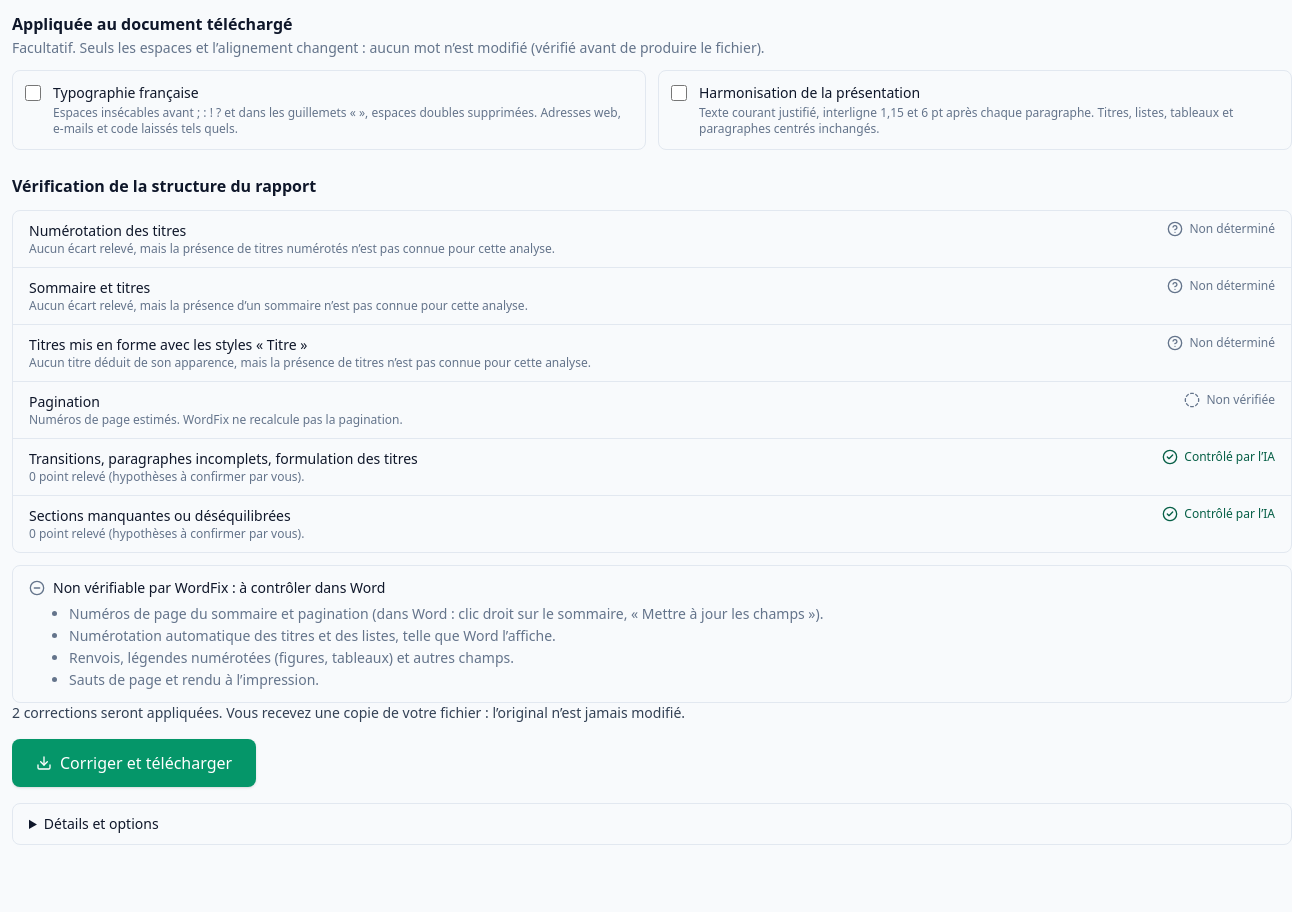
Action principale « Corriger et télécharger » › échec EXPORT_TOO_LARGE : message clair, nouvel essai seulement s’il peut aboutir
What coordinates should you click on to do the following:
click the button "Corriger et télécharger"
I would click on:
 (134, 763)
Its box is [12,739,256,787].
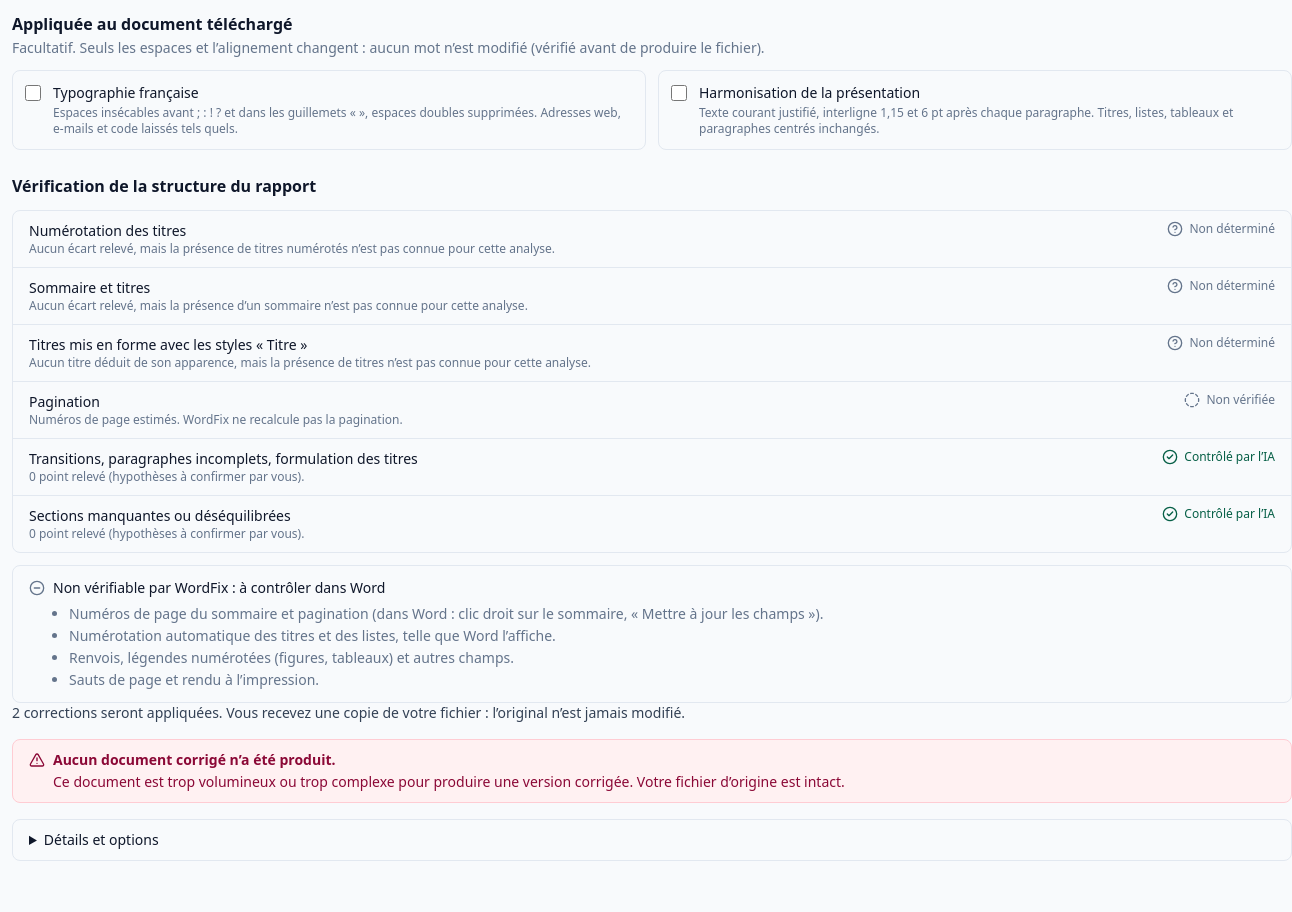
Result: the text "trop volumineux ou trop complexe" is shown at [53,772,845,791]
Result: the button "Corriger et télécharger" is gone
